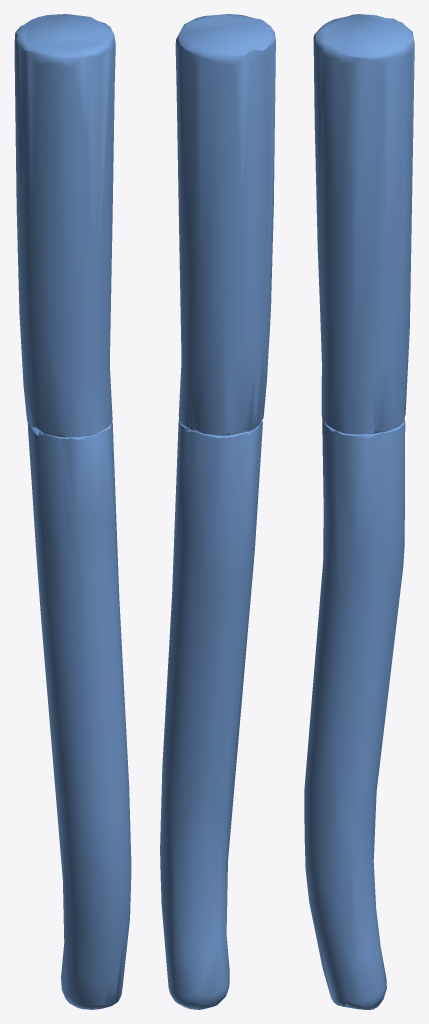
Rendered from veia-cava-inferior.glb.
3 views of the same model, side by side, from view 1: azimuth 30°, elevation 25°; view 2: azimuth 210°, elevation 25°; view 3: azimuth 270°, elevation 25° (orthographic).
Parts seen in each view (by area): view 1: veia-cava-inferior; view 2: veia-cava-inferior; view 3: veia-cava-inferior.
Boxes of the visible parts, x1=… form: veia-cava-inferior: x1=14, y1=14, x2=131, y2=1009; veia-cava-inferior: x1=160, y1=14, x2=275, y2=1009; veia-cava-inferior: x1=304, y1=14, x2=414, y2=1009.
Bounding box in the file's own units: 0.0245 × 0.2395 × 0.0251.
